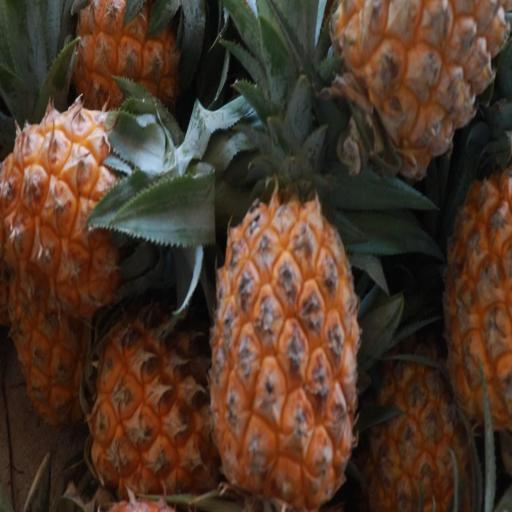Pineapple - v8 v1: (206, 193, 362, 512), (317, 0, 512, 189), (0, 78, 146, 306), (84, 296, 222, 502), (439, 133, 512, 457), (67, 0, 188, 146)
